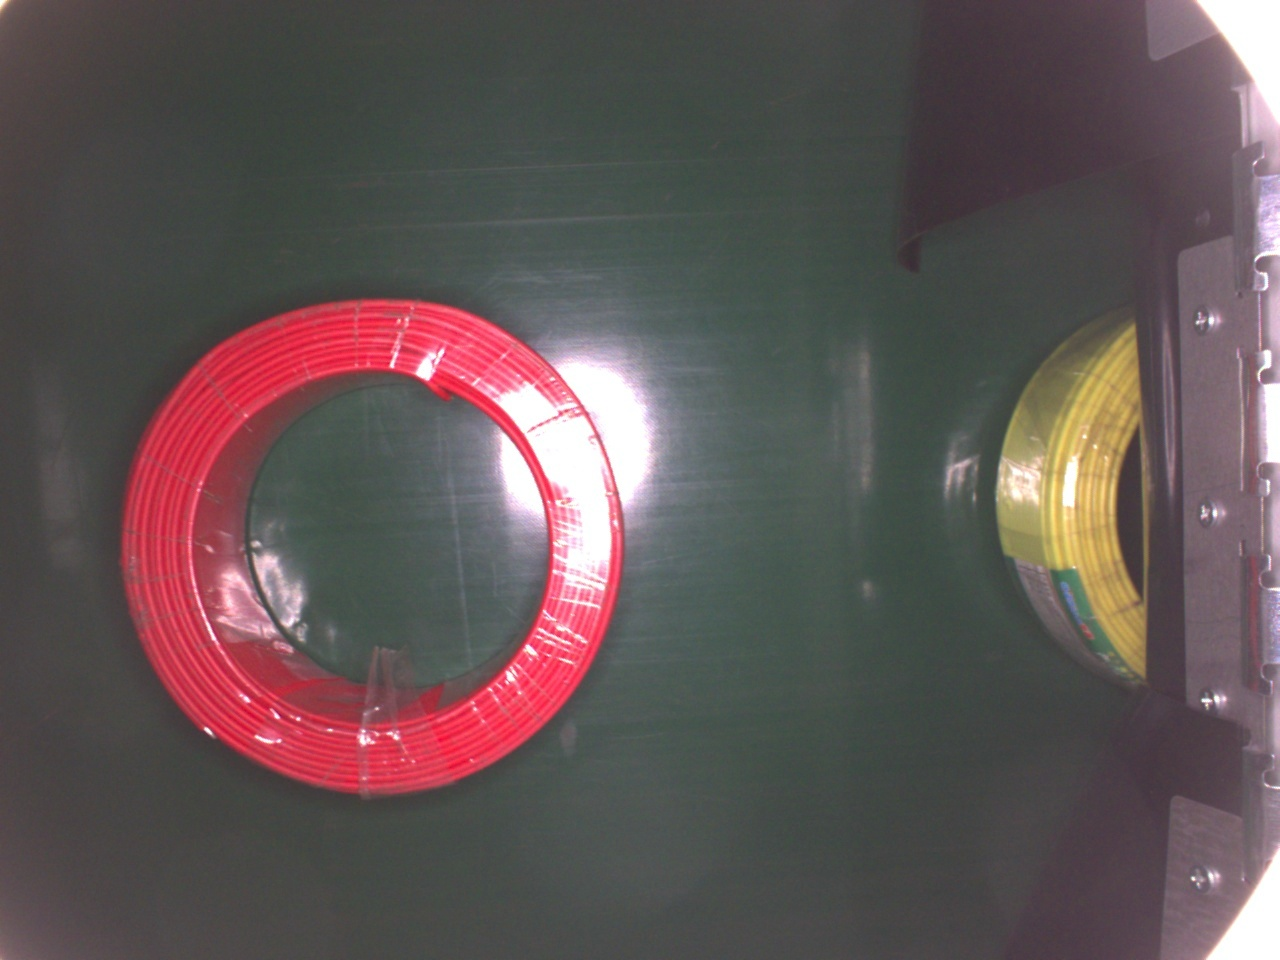red: (114, 293, 628, 797)
yellow: (991, 303, 1155, 695)
